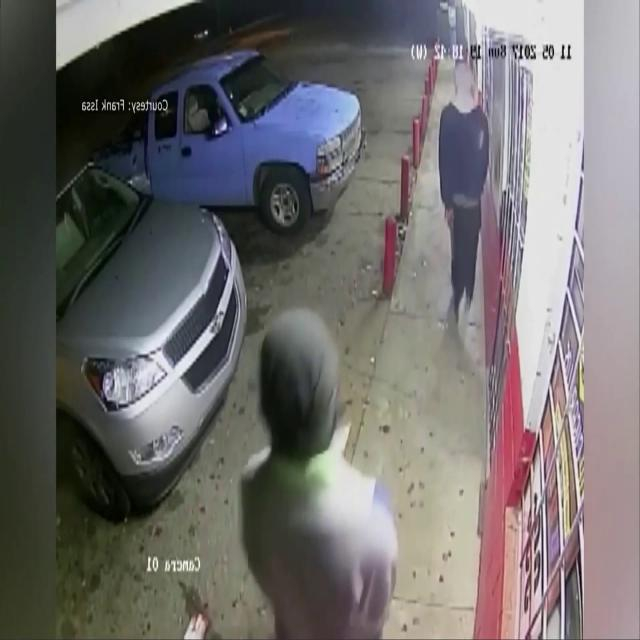Gun: (444, 209, 456, 262)
